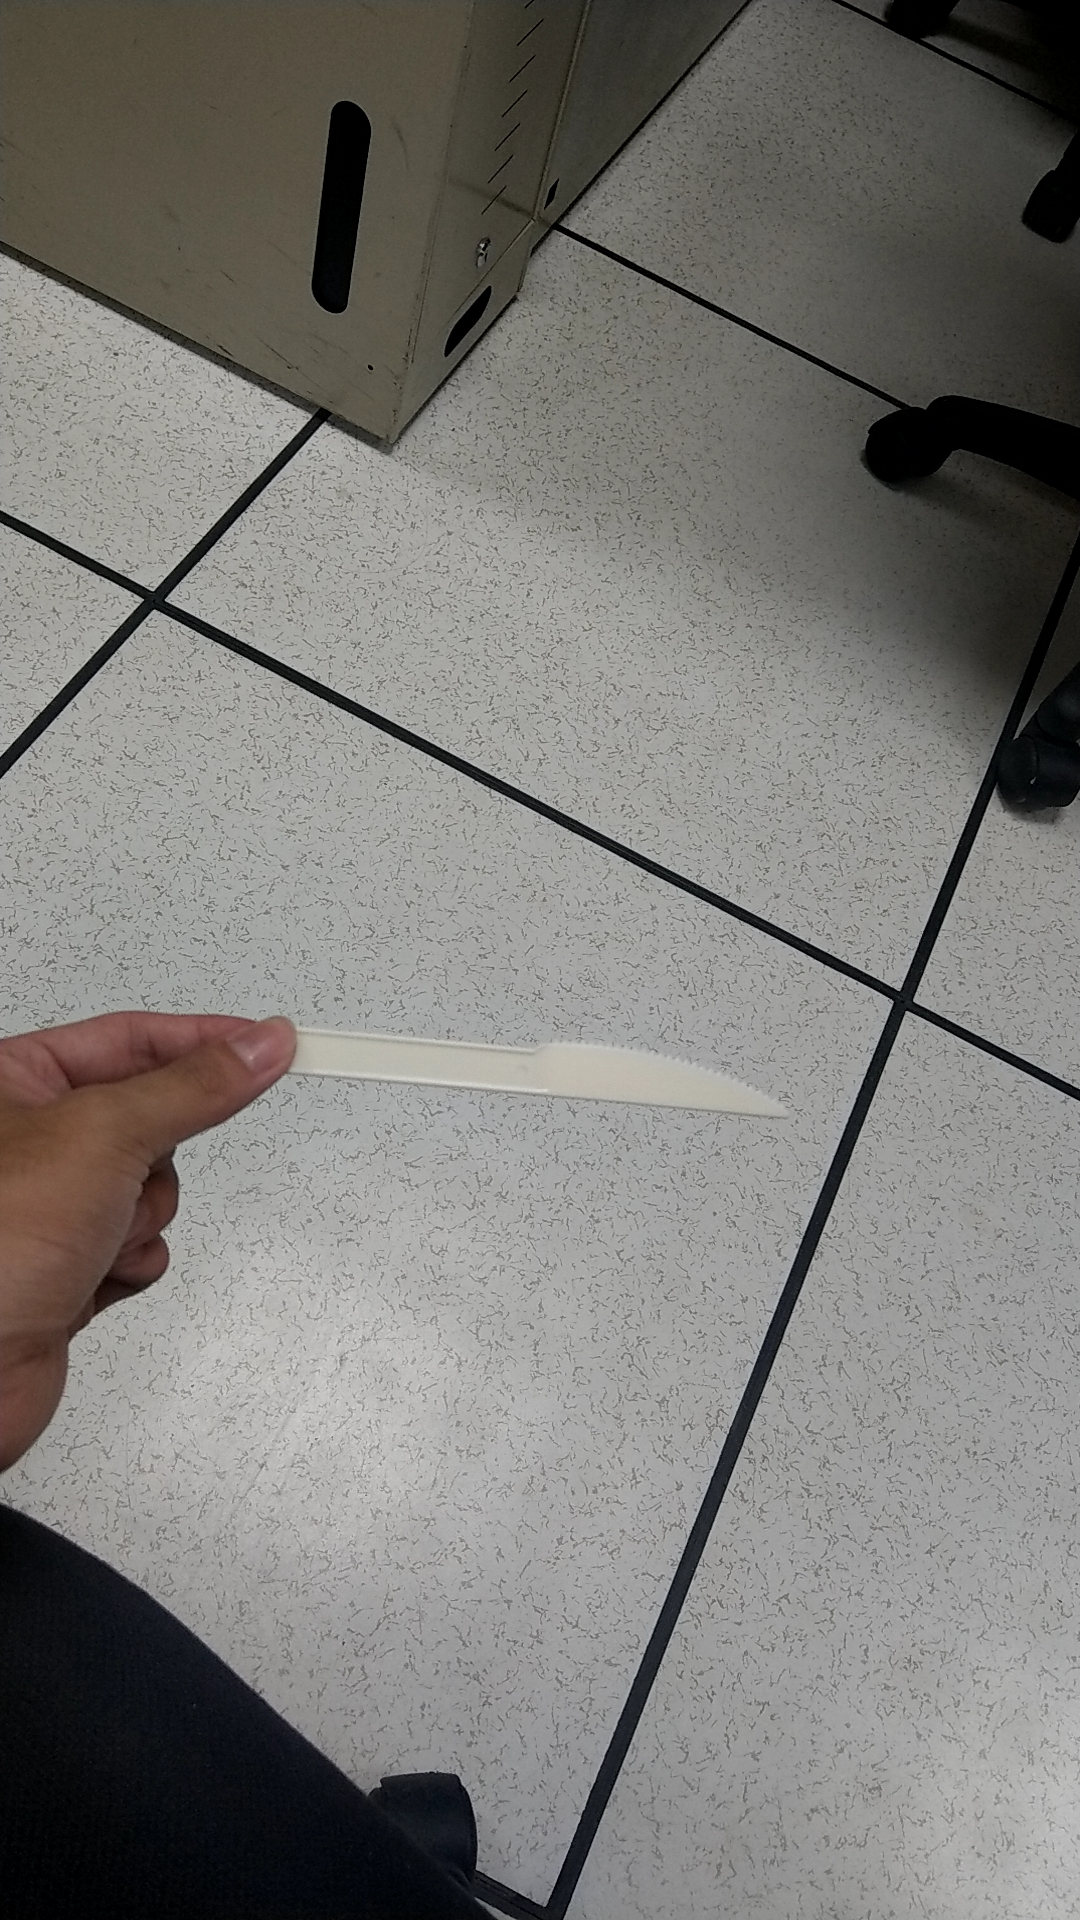knife: (290, 1000, 793, 1139)
